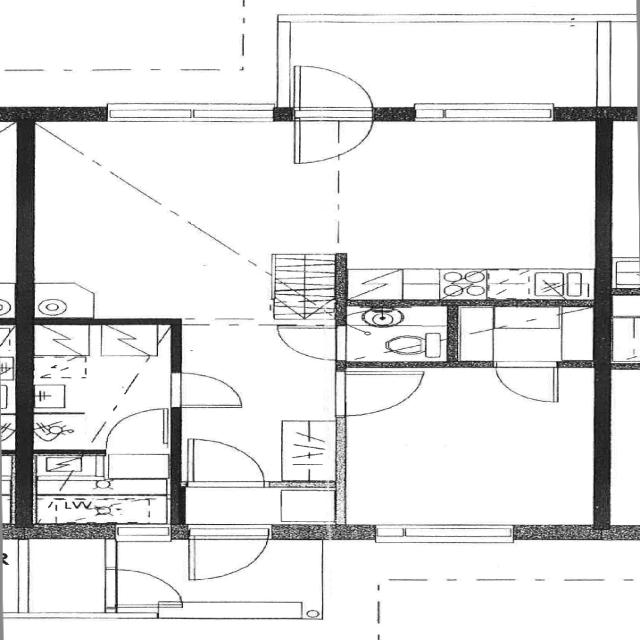door: (286, 62, 378, 165), (331, 362, 431, 418), (182, 524, 274, 584), (178, 433, 271, 492), (162, 365, 258, 414), (102, 564, 191, 609), (98, 406, 175, 454), (488, 361, 564, 406), (273, 322, 350, 362)
window: (406, 98, 569, 131), (96, 101, 280, 128), (368, 518, 526, 548), (4, 606, 166, 622)
zone: (25, 118, 284, 319), (337, 116, 606, 300), (332, 354, 606, 533), (27, 320, 175, 451), (379, 579, 619, 640), (22, 451, 180, 528), (447, 302, 605, 367), (10, 538, 111, 618), (340, 299, 454, 366)
